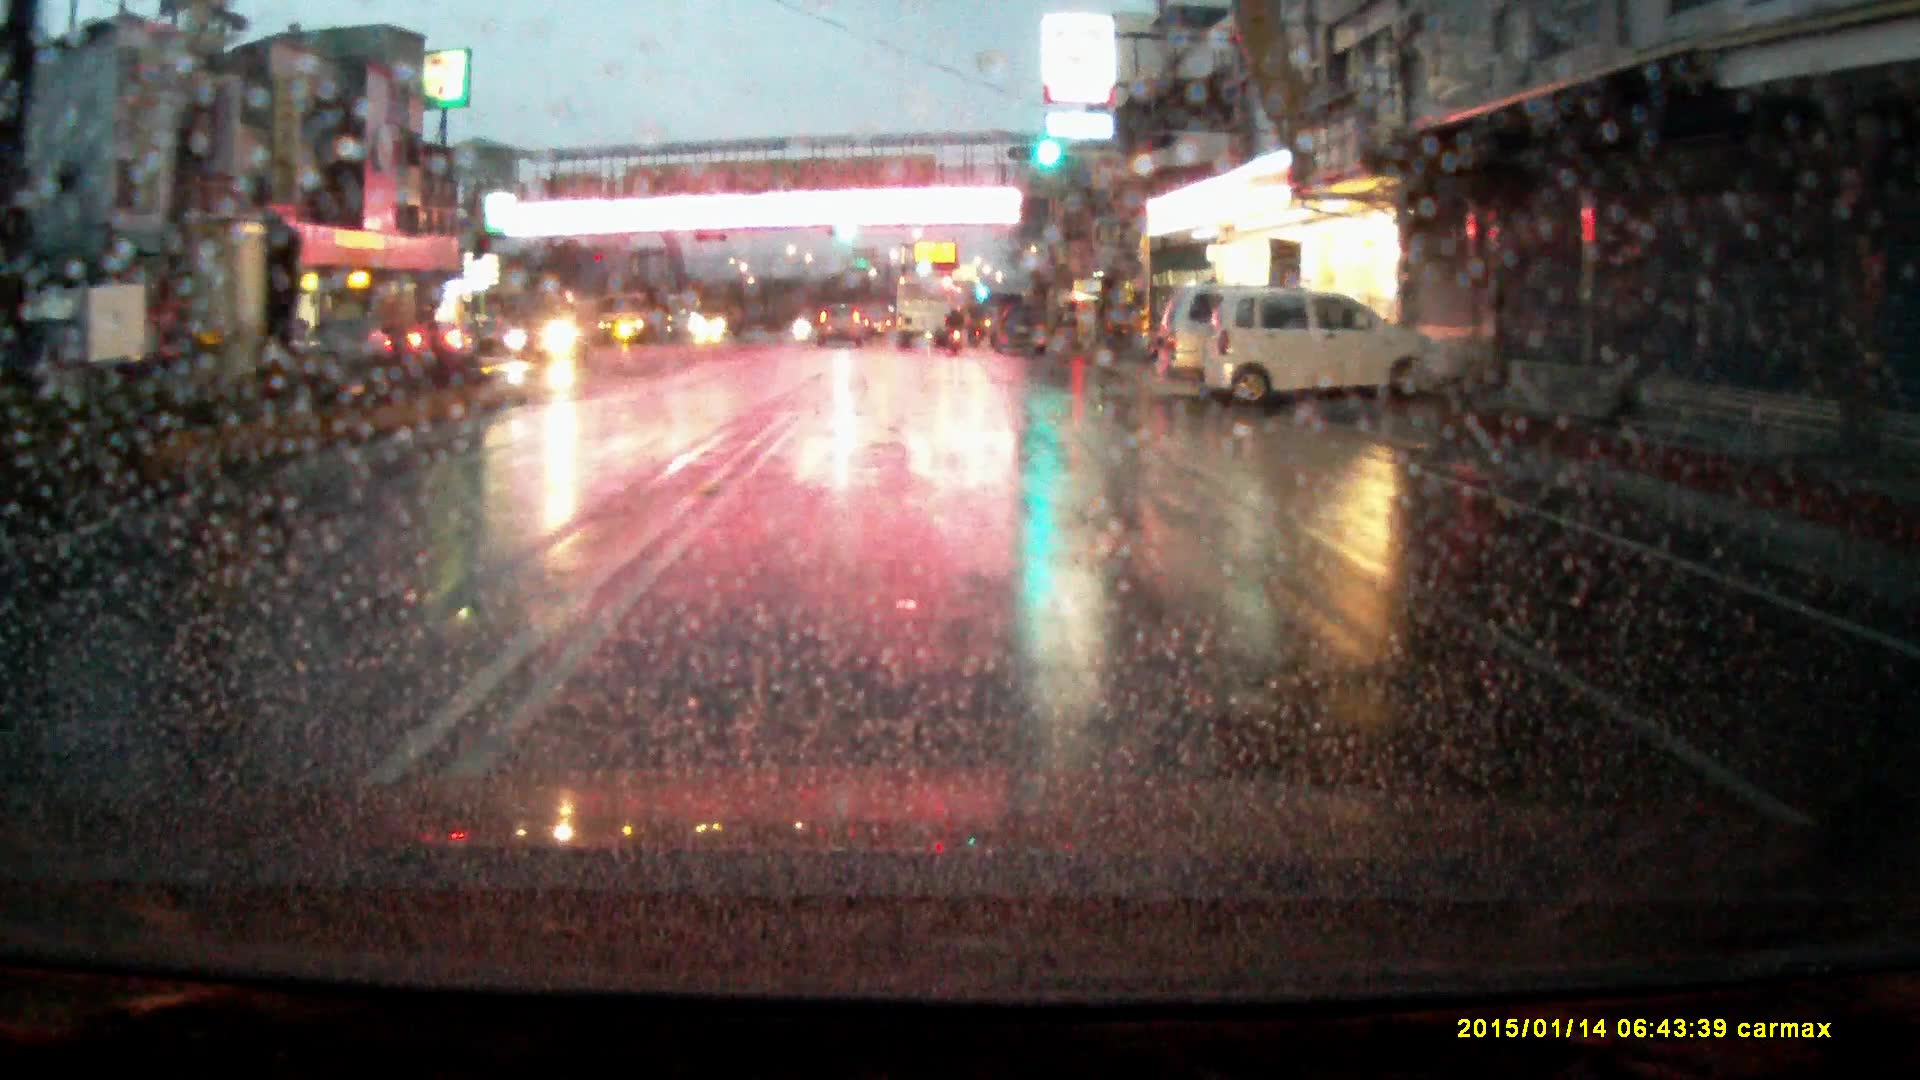rider: (946, 310, 966, 363)
vehicle: (1207, 293, 1466, 421), (1155, 282, 1310, 396), (1, 284, 150, 385), (503, 295, 600, 365), (299, 317, 397, 371), (897, 276, 950, 344), (990, 303, 1052, 357), (604, 294, 666, 347), (411, 321, 477, 363), (690, 297, 744, 342), (818, 304, 866, 348), (1103, 307, 1141, 349)
